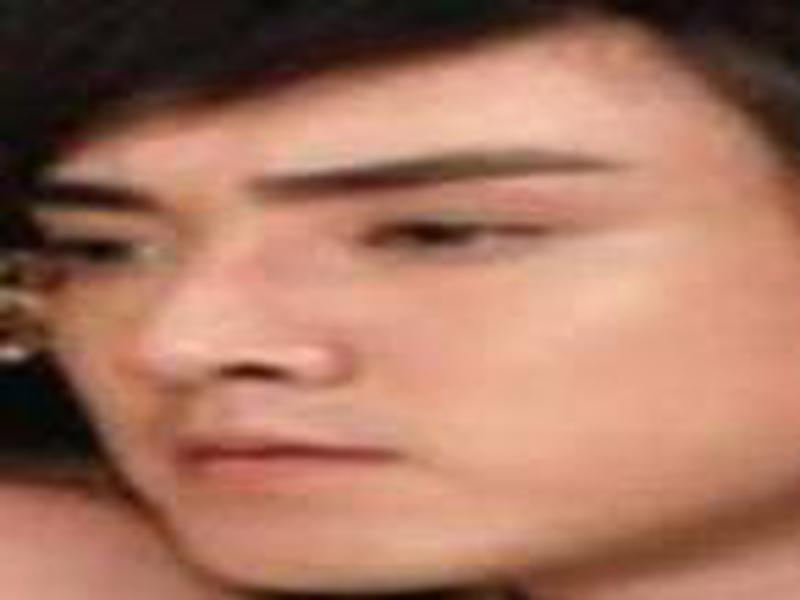without_mask: (36, 53, 785, 593)
